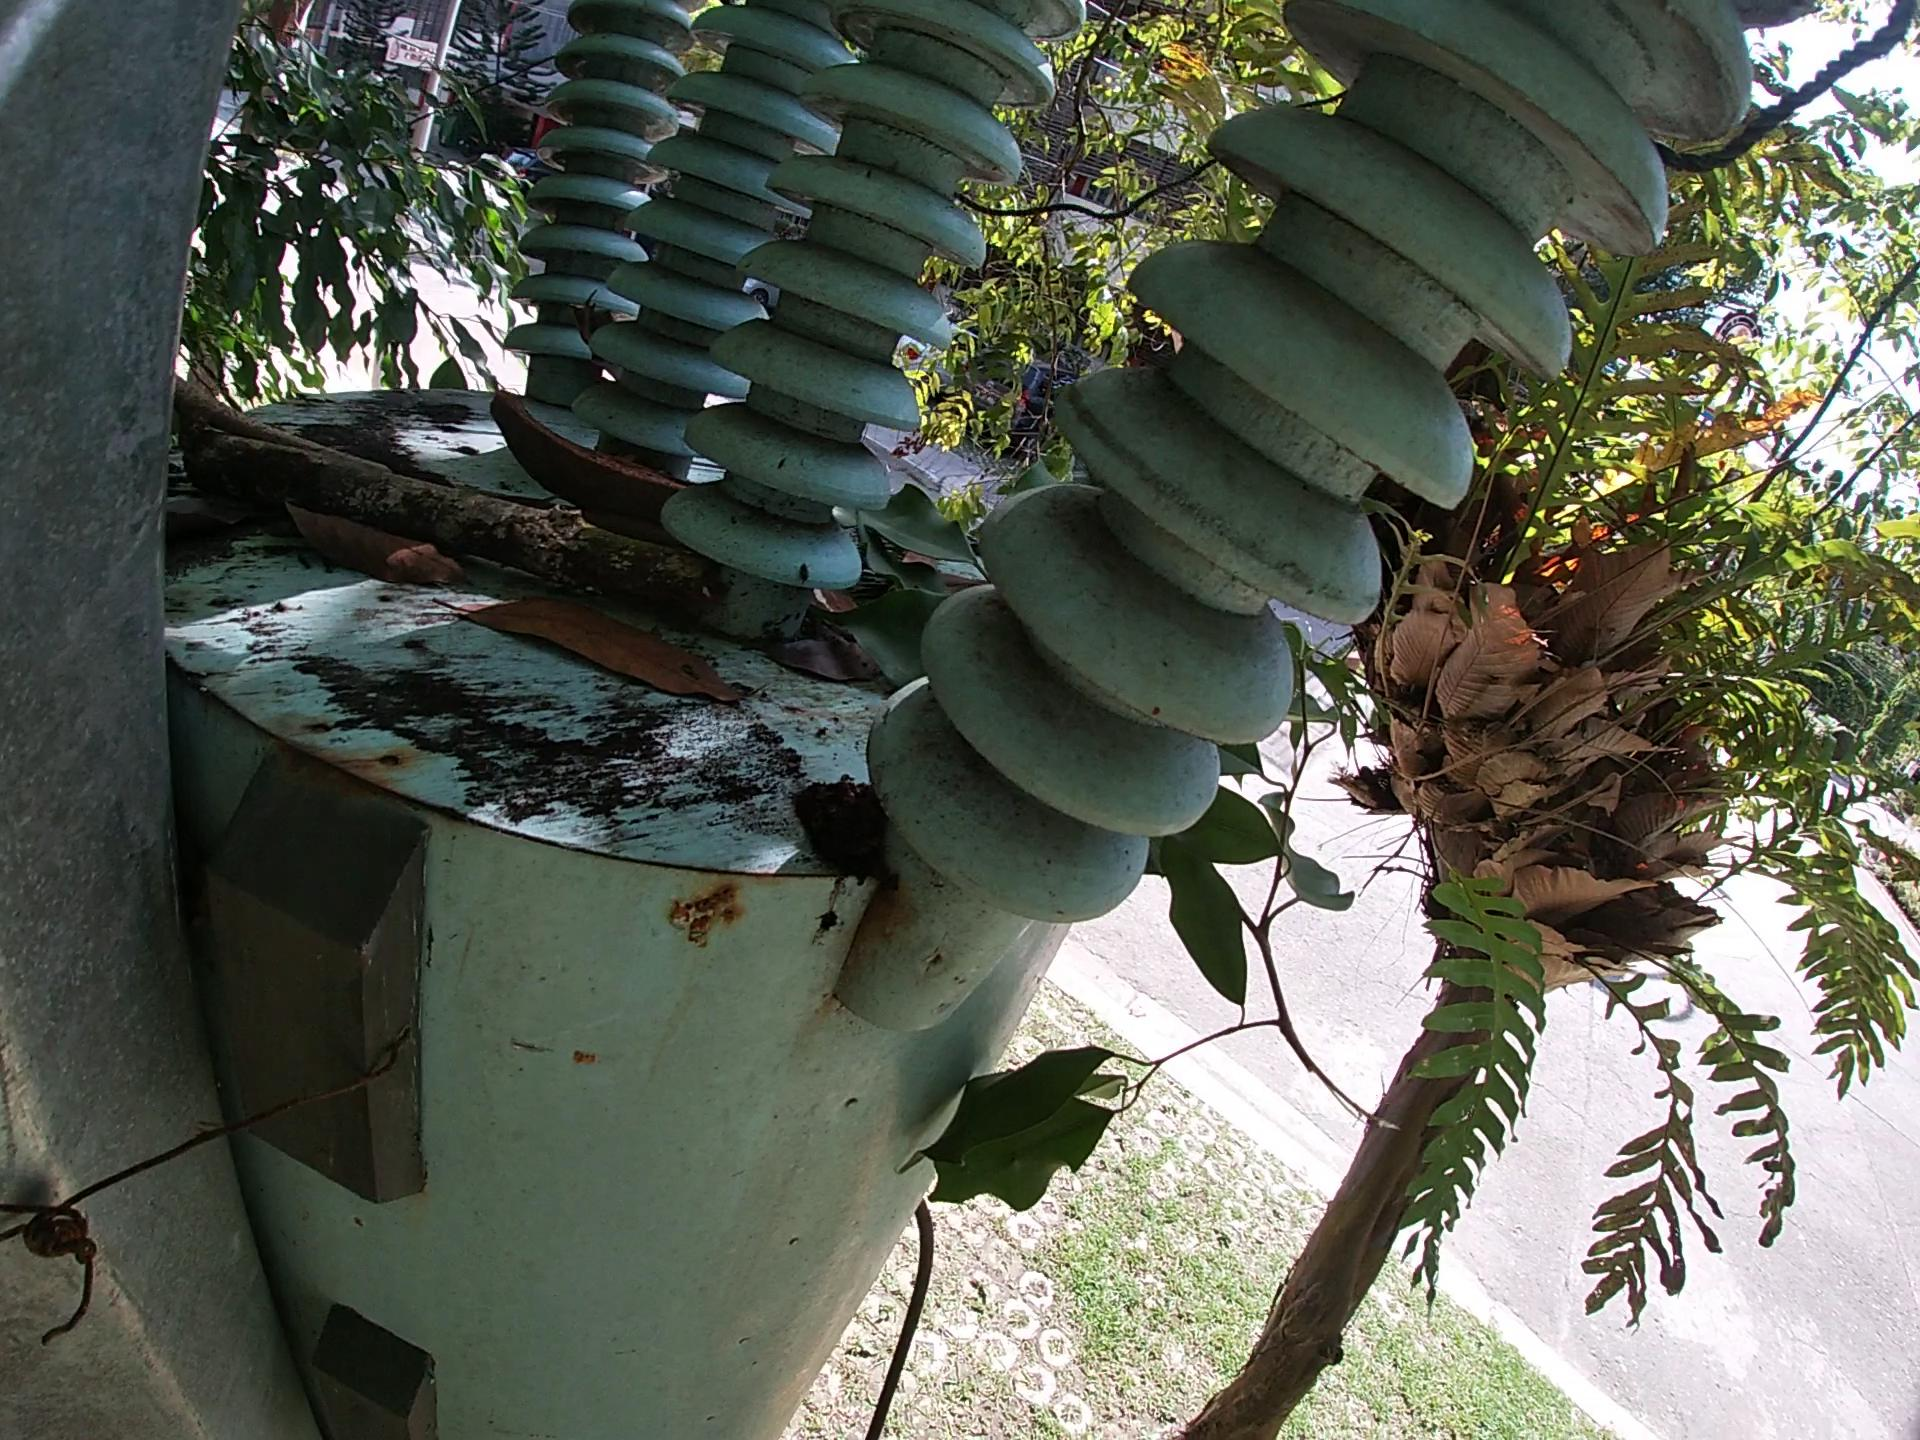branch with leaves: (892, 610, 1404, 1227)
leaf: (425, 581, 756, 712), (280, 493, 478, 591), (736, 628, 890, 693), (159, 486, 268, 537)
mahogany fruit: (481, 389, 708, 551)
tree branch: (181, 433, 744, 625), (169, 374, 398, 470)
